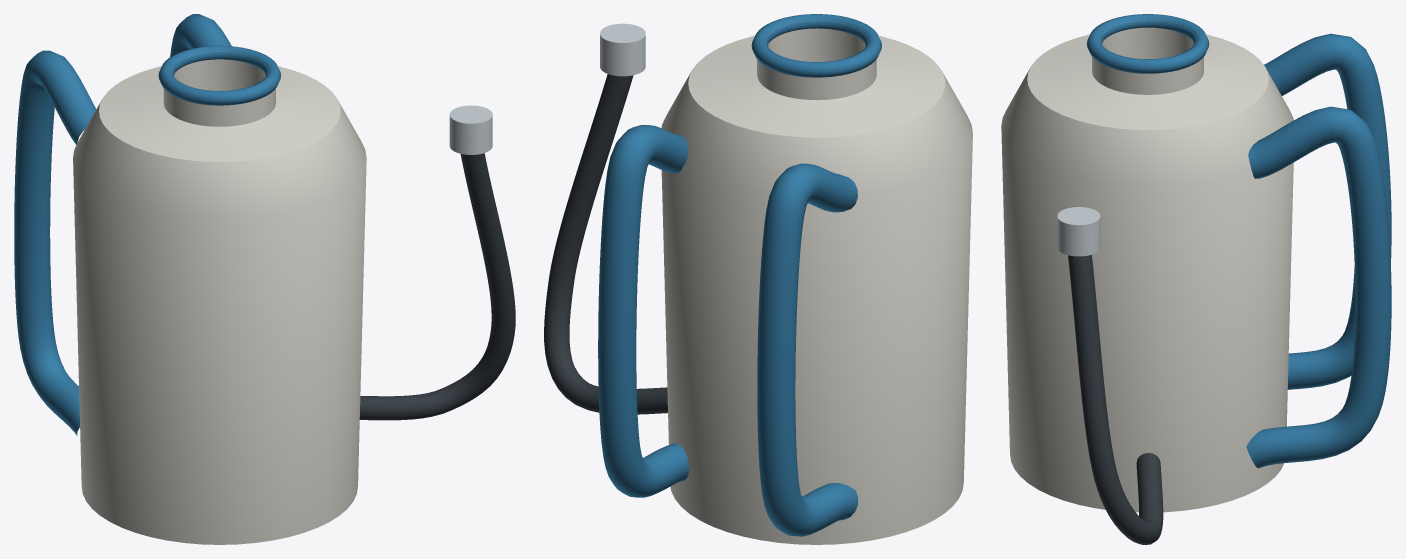
File: curling-club-and-ice-maintenance-pebble-water-backpack-d1b69d6a__31292.glb
3 views of the same model, side by side, from view 1: azimuth 30°, elevation 25°; view 2: azimuth 150°, elevation 25°; view 3: azimuth 270°, elevation 25° (orthographic). The views are drawn at different scales.
Visible parts, largest first — view 1: pebble-water-backpack; view 2: pebble-water-backpack; view 3: pebble-water-backpack.
Part boxes in pixels (x1=…): pebble-water-backpack: x1=14, y1=14, x2=515, y2=544; pebble-water-backpack: x1=544, y1=14, x2=972, y2=544; pebble-water-backpack: x1=1001, y1=14, x2=1391, y2=544.
Size of the model in its own units: 0.5339 by 0.534 by 0.4524.
